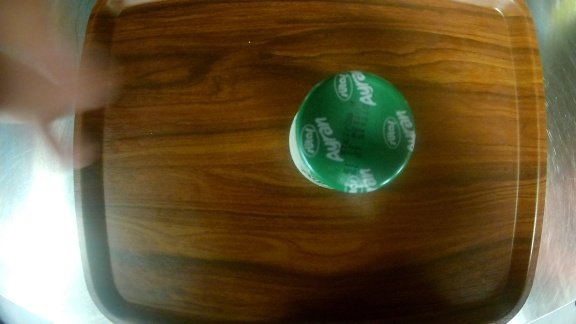ayran: (285, 67, 421, 199)
